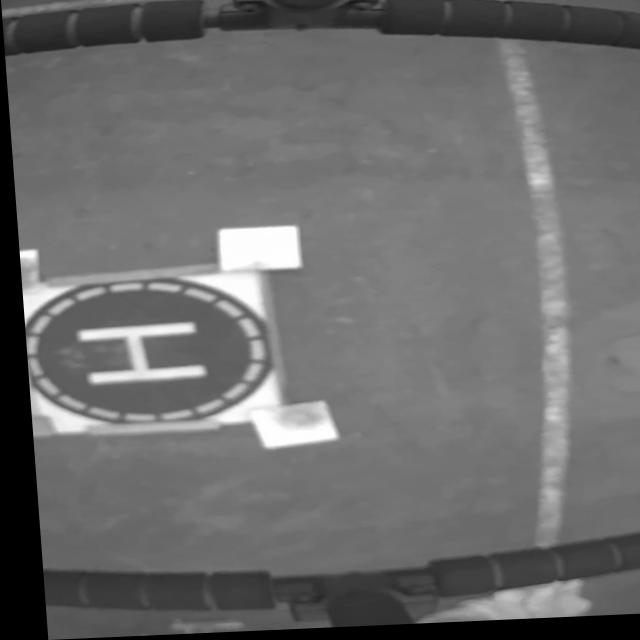Helipad: (65, 323, 205, 387)
